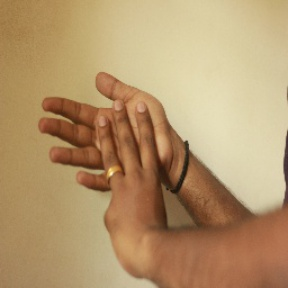M: (34, 69, 183, 229)
